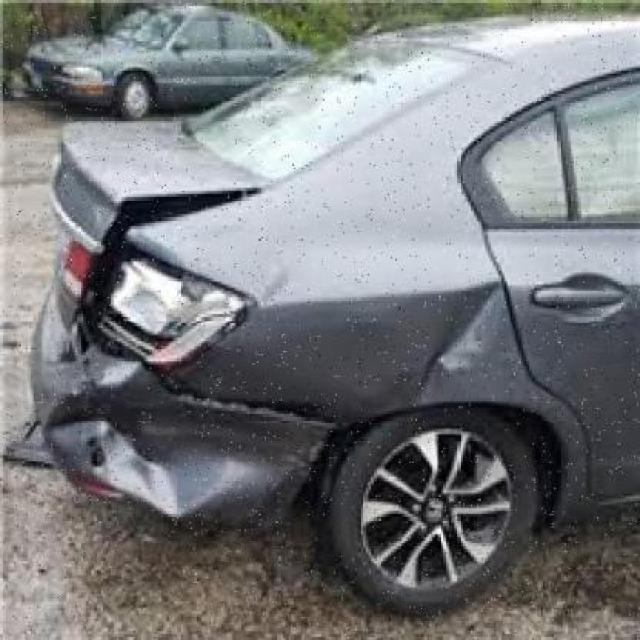quaterpanel-dent: (294, 271, 530, 474)
rear-bumper-dent: (3, 353, 355, 556)
